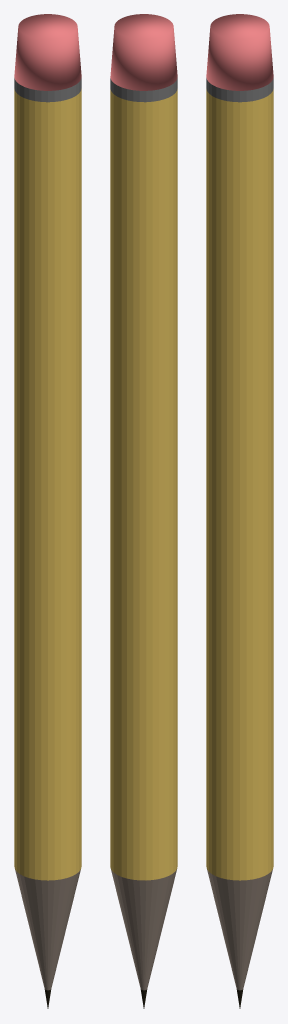
The model's file is Pencil.fbx.
3 views of the same model, side by side, from view 1: azimuth 90°, elevation 25°; view 2: azimuth 150°, elevation 25°; view 3: azimuth 270°, elevation 25° (orthographic).
Visible parts, largest first — view 1: Pencil, Cylinder.002, Cylinder.004, Cylinder.003; view 2: Pencil, Cylinder.002, Cylinder.004, Cylinder.003; view 3: Pencil, Cylinder.002, Cylinder.004, Cylinder.003.
Boxes of the visible parts, x1,y1,x2,y2 form: Pencil: (14,89,81,880); Cylinder.002: (14,14,81,90); Cylinder.004: (15,869,80,990); Cylinder.003: (14,78,81,102); Pencil: (110,89,177,880); Cylinder.002: (110,14,177,90); Cylinder.004: (110,868,176,990); Cylinder.003: (110,77,177,102); Pencil: (206,89,273,880); Cylinder.002: (206,14,273,90); Cylinder.004: (207,869,272,990); Cylinder.003: (206,78,273,102).
Size of the model in its own units: 13.76 by 222 by 13.76.
